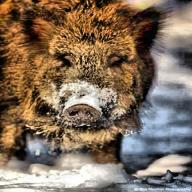boar: (0, 0, 175, 190)
